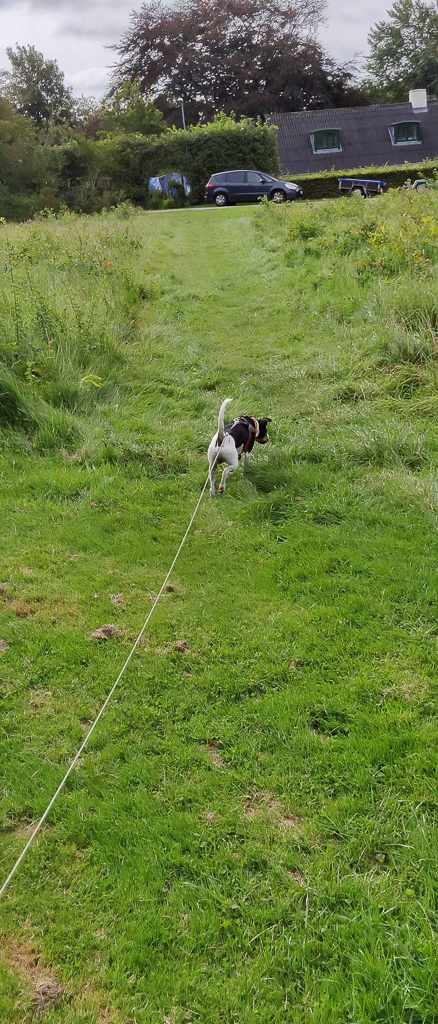Dog: (200, 394, 278, 508)
